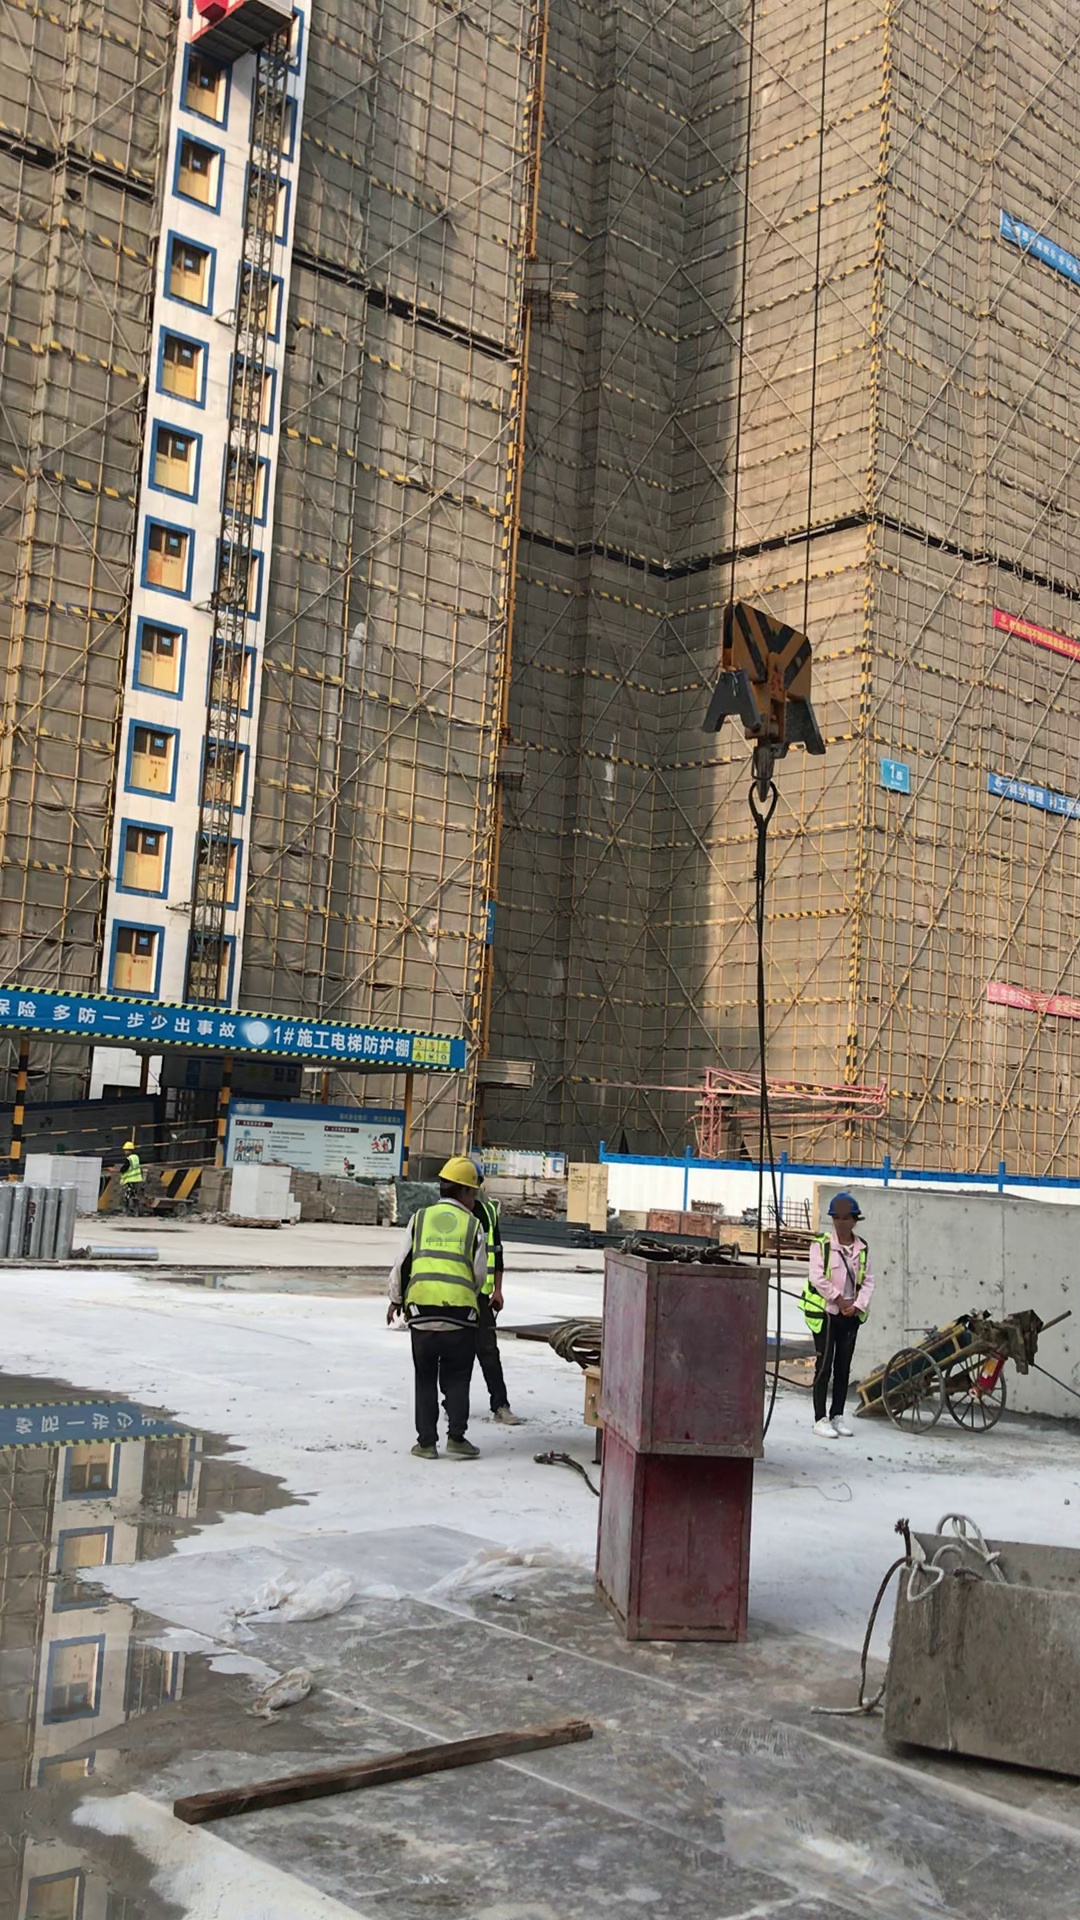brick: (215, 1154, 297, 1224), (22, 1149, 108, 1200)
ebox: (570, 1361, 604, 1433)
fence: (1, 1121, 225, 1182)
handcart: (843, 1301, 1080, 1452)
helmet: (429, 1149, 488, 1190), (821, 1190, 874, 1220), (117, 1137, 141, 1150)
hook: (673, 567, 845, 850)
hopper: (854, 1492, 1077, 1799)
person: (370, 1136, 495, 1479), (786, 1154, 880, 1452), (463, 1163, 543, 1427), (109, 1125, 159, 1229)
slogan: (1, 971, 485, 1086), (216, 1090, 406, 1190), (1, 1382, 195, 1467), (976, 752, 1080, 858), (974, 594, 1080, 688), (984, 192, 1080, 293), (965, 967, 1080, 1032), (863, 733, 916, 818)
vest: (406, 1200, 484, 1322), (801, 1232, 874, 1332), (468, 1197, 515, 1309), (114, 1152, 148, 1191)
wood: (290, 1162, 388, 1231), (192, 1163, 231, 1215)
